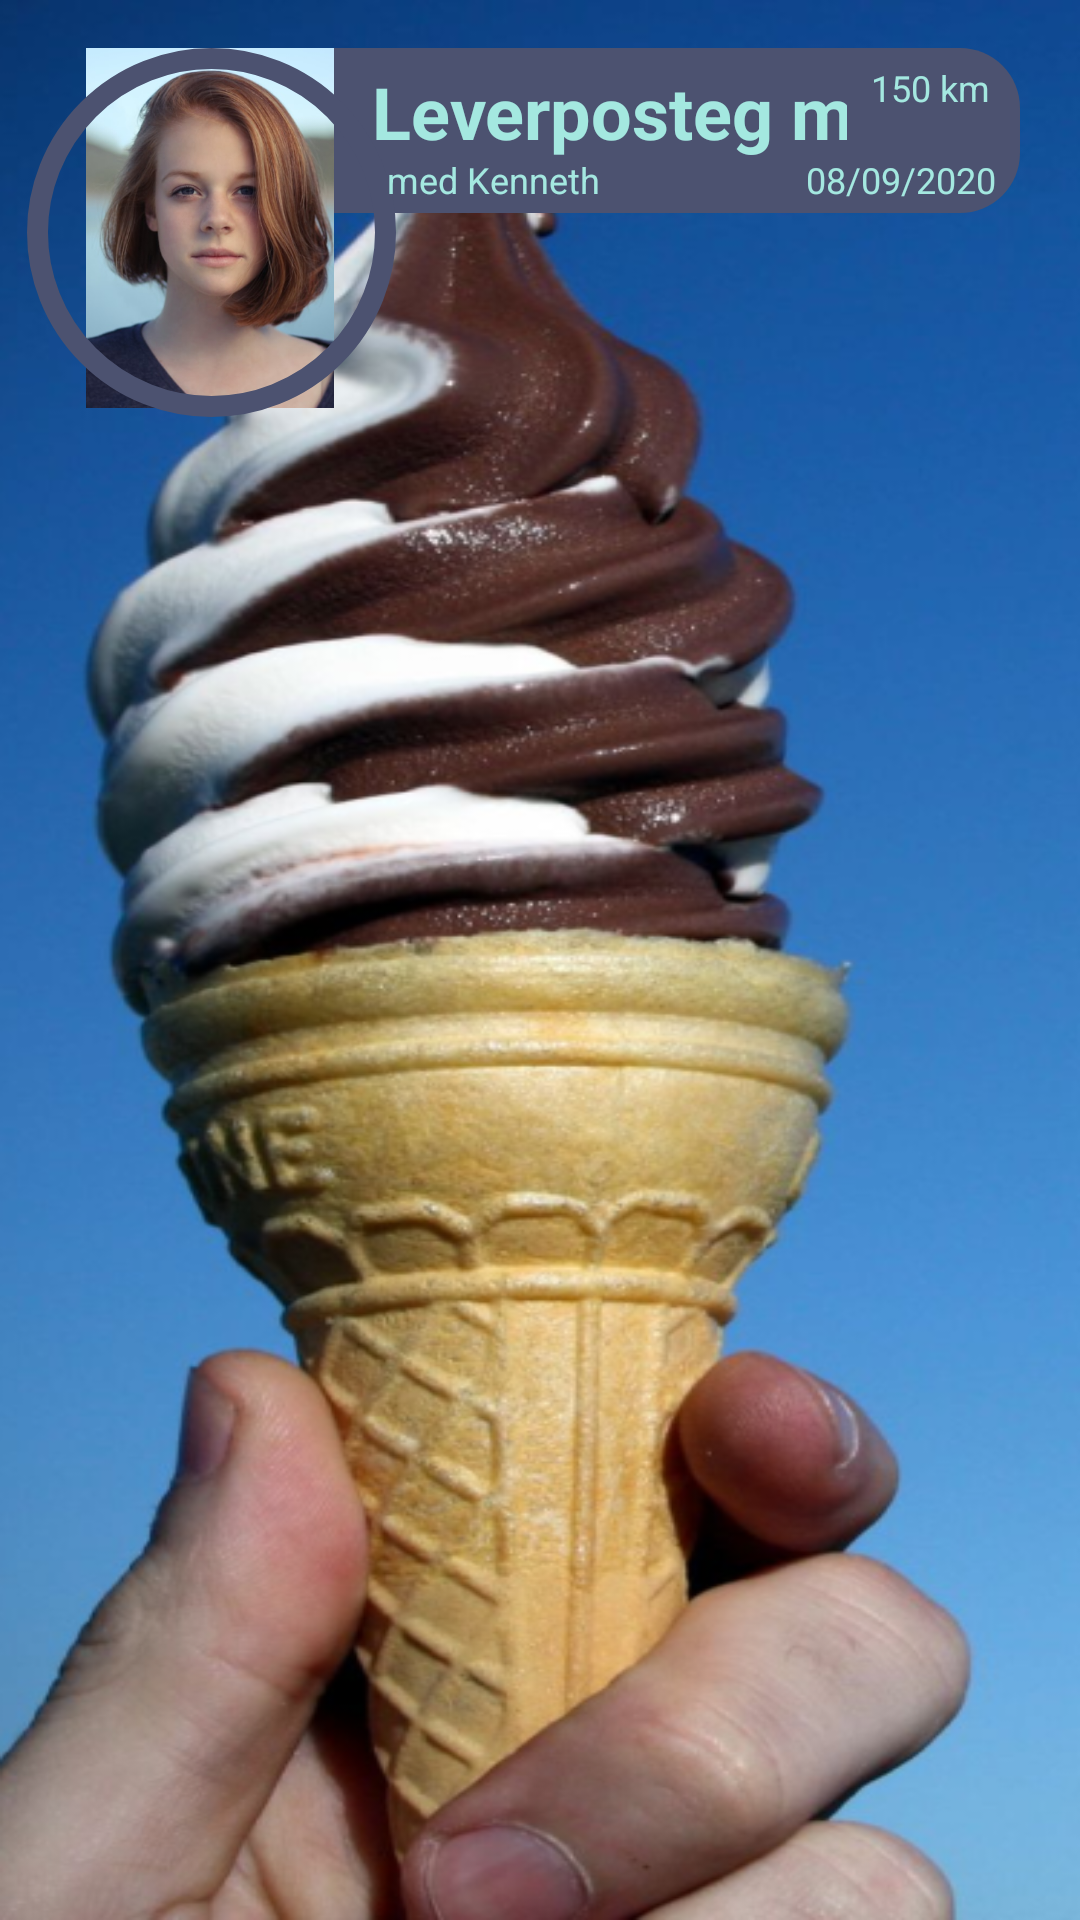

Icon click points for this 1080w x 1920h phone screenshot, format (x=x, y=y):
profiltest: (x=210, y=228)
